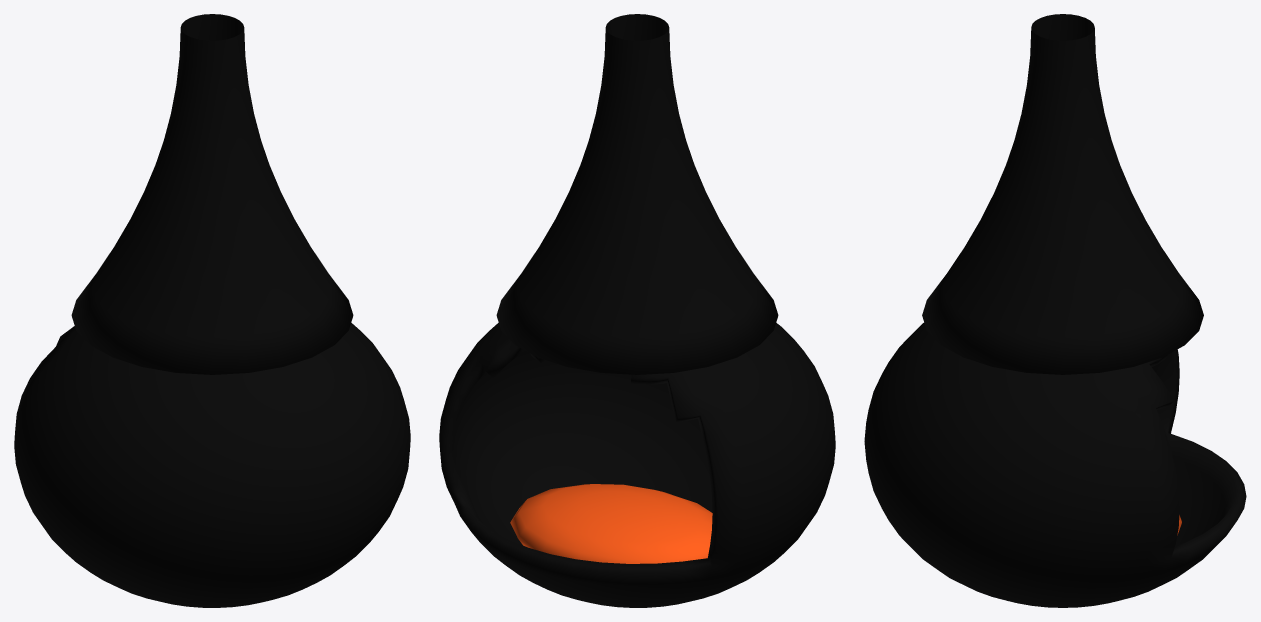
Rendered from Fireplace.obj.
The picture shows the model from 3 angles, left to right: view 1: azimuth 30°, elevation 25°; view 2: azimuth 150°, elevation 25°; view 3: azimuth 270°, elevation 25°; orthographic projection.
Visible parts, largest first — view 1: Fireplace; view 2: Fireplace; view 3: Fireplace.
Part boxes in pixels (left/top/right/bottom): Fireplace: left=14, top=14, right=410, bottom=607; Fireplace: left=439, top=14, right=835, bottom=607; Fireplace: left=864, top=14, right=1246, bottom=607.
Bounding box in the file's own units: 2 × 3.1 × 1.92.
